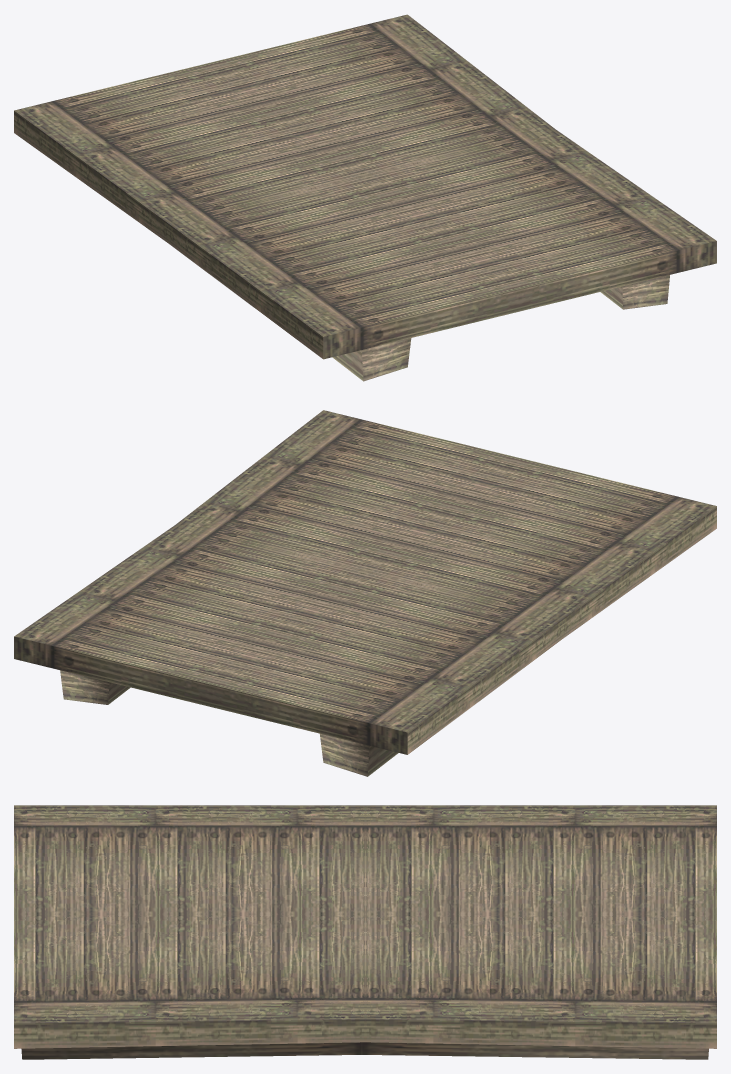
File: tirisfallboardwalk01.obj
3 renders of one model, top to bottom at view 1: azimuth 30°, elevation 25°; view 2: azimuth 150°, elevation 25°; view 3: azimuth 270°, elevation 25°, orthographic. The views are drawn at different scales.
Parts seen in each view (by area): view 1: TIRISFALLBOARDWALK010; view 2: TIRISFALLBOARDWALK010; view 3: TIRISFALLBOARDWALK010.
Boxes of the visible parts, x1,y1,x2,y2 form: TIRISFALLBOARDWALK010: (14,14,716,381); TIRISFALLBOARDWALK010: (14,410,716,776); TIRISFALLBOARDWALK010: (14,805,716,1059).
Bounding box in the file's own units: 22.02 × 3.09 × 29.98.
Materials: 1 (1 with a texture image).
